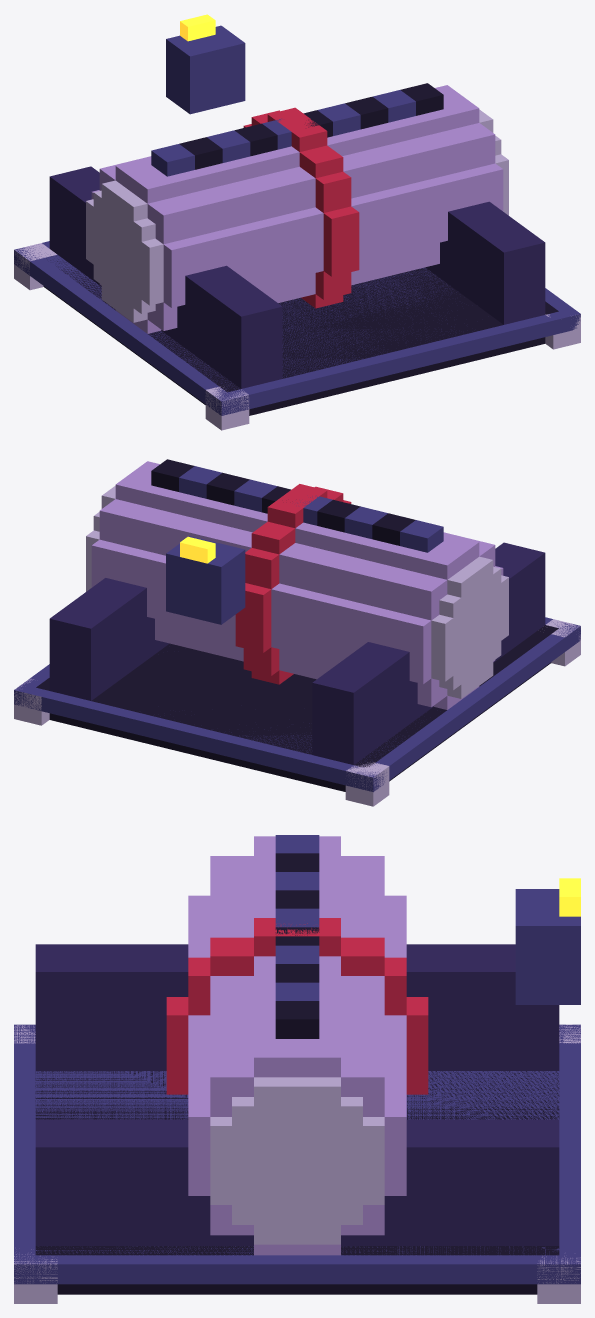
File: fuel-tank.md.glb
3 views of the same model, one above another, from view 1: azimuth 30°, elevation 25°; view 2: azimuth 150°, elevation 25°; view 3: azimuth 270°, elevation 25° (orthographic). The views are drawn at different scales.
Visible parts, largest first — view 1: fuel-tank.md; view 2: fuel-tank.md; view 3: fuel-tank.md.
Boxes of the visible parts, left/top/right/bottom form: fuel-tank.md: left=14, top=14, right=580, bottom=430; fuel-tank.md: left=14, top=459, right=580, bottom=806; fuel-tank.md: left=14, top=835, right=580, bottom=1303.
Size of the model in its own units: 1.62 by 0.9375 by 1.62.
